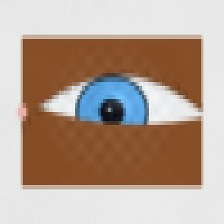pinguecula_lesion: (153, 92, 188, 120)
